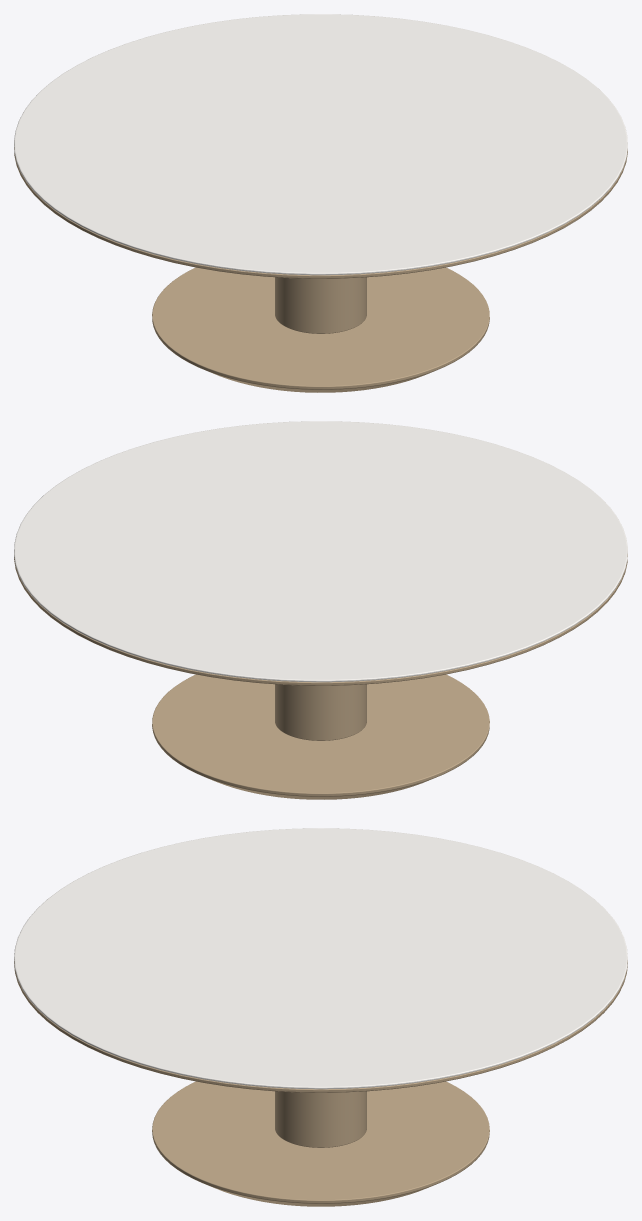
Rendered from orbit_d100h33_proposta.glb.
The picture shows the model from 3 angles, top to bottom: view 1: azimuth 30°, elevation 25°; view 2: azimuth 150°, elevation 25°; view 3: azimuth 270°, elevation 25°; orthographic projection.
Visible parts, largest first — view 1: Top Orbit Coffee Table 030, Base Orbit Coffee Table 030, Base Element Orbit Coffee Table 033, Undertop Orbit Coffee Table 030; view 2: Top Orbit Coffee Table 030, Base Orbit Coffee Table 030, Base Element Orbit Coffee Table 033, Undertop Orbit Coffee Table 030; view 3: Top Orbit Coffee Table 030, Base Orbit Coffee Table 030, Base Element Orbit Coffee Table 033, Undertop Orbit Coffee Table 030.
Part boxes in pixels (<box>): Top Orbit Coffee Table 030: <box>14,14,627,275</box>; Base Orbit Coffee Table 030: <box>152,267,489,392</box>; Base Element Orbit Coffee Table 033: <box>275,277,366,333</box>; Undertop Orbit Coffee Table 030: <box>14,147,627,278</box>; Top Orbit Coffee Table 030: <box>14,421,627,682</box>; Base Orbit Coffee Table 030: <box>152,674,489,799</box>; Base Element Orbit Coffee Table 033: <box>275,684,366,740</box>; Undertop Orbit Coffee Table 030: <box>14,554,627,685</box>; Top Orbit Coffee Table 030: <box>14,828,627,1089</box>; Base Orbit Coffee Table 030: <box>152,1081,489,1206</box>; Base Element Orbit Coffee Table 033: <box>275,1091,366,1147</box>; Undertop Orbit Coffee Table 030: <box>14,961,627,1092</box>.
Size of the model in its own units: 1 by 0.334 by 1.
